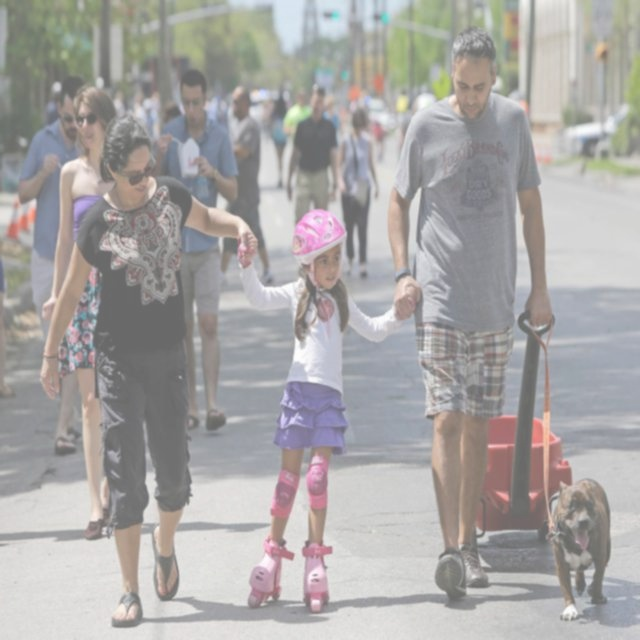pessoa: (38, 109, 262, 631), (378, 23, 562, 613), (228, 206, 421, 622), (148, 64, 244, 434), (41, 84, 118, 542), (17, 76, 88, 457), (218, 84, 276, 292), (336, 106, 379, 278), (286, 85, 337, 228), (326, 89, 410, 139), (105, 78, 182, 132), (279, 86, 313, 192), (266, 89, 294, 191), (205, 86, 232, 123), (412, 82, 436, 110)
